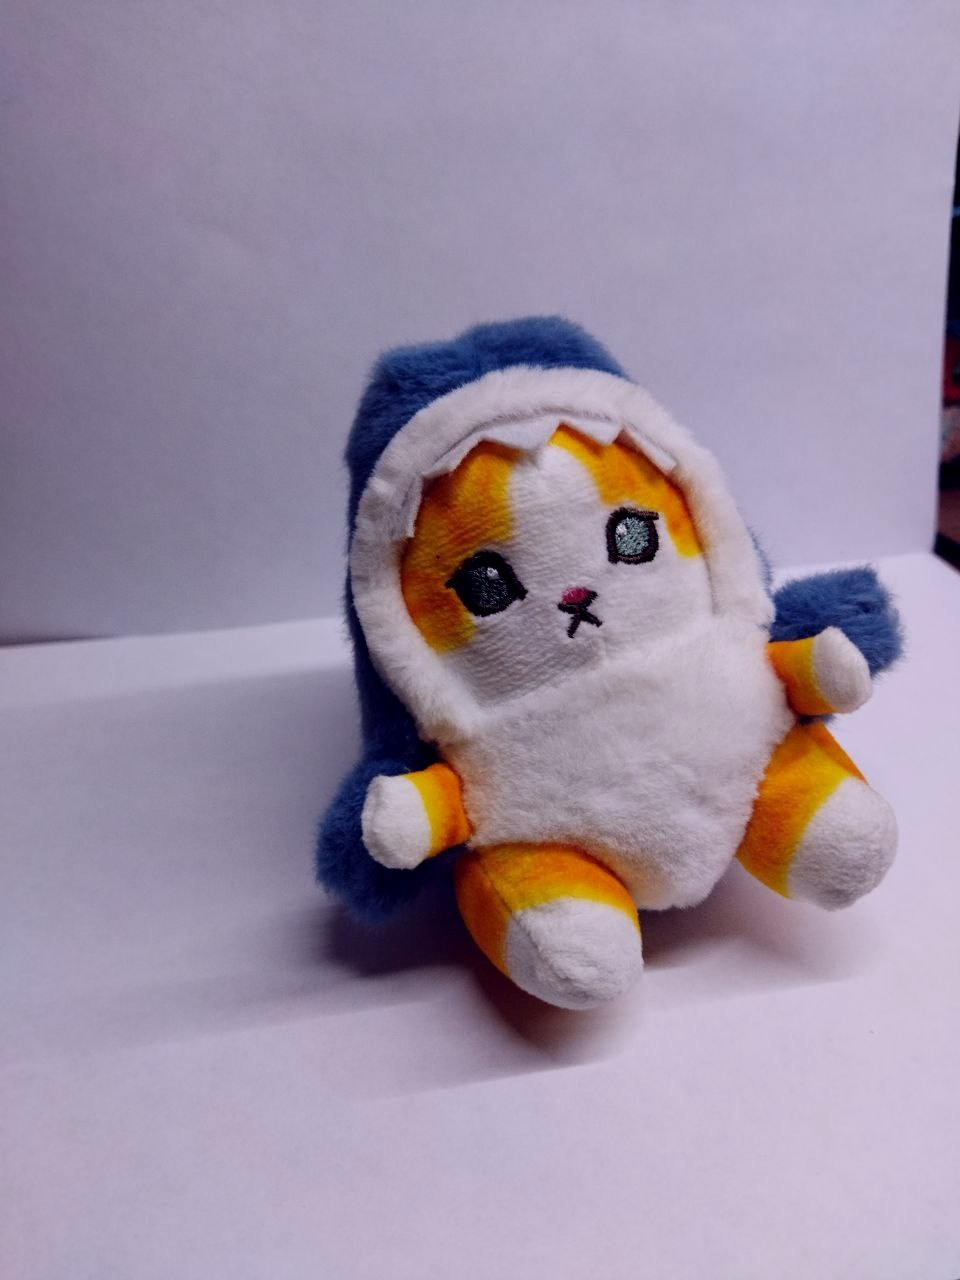Snark Cat: (321, 319, 896, 996)
